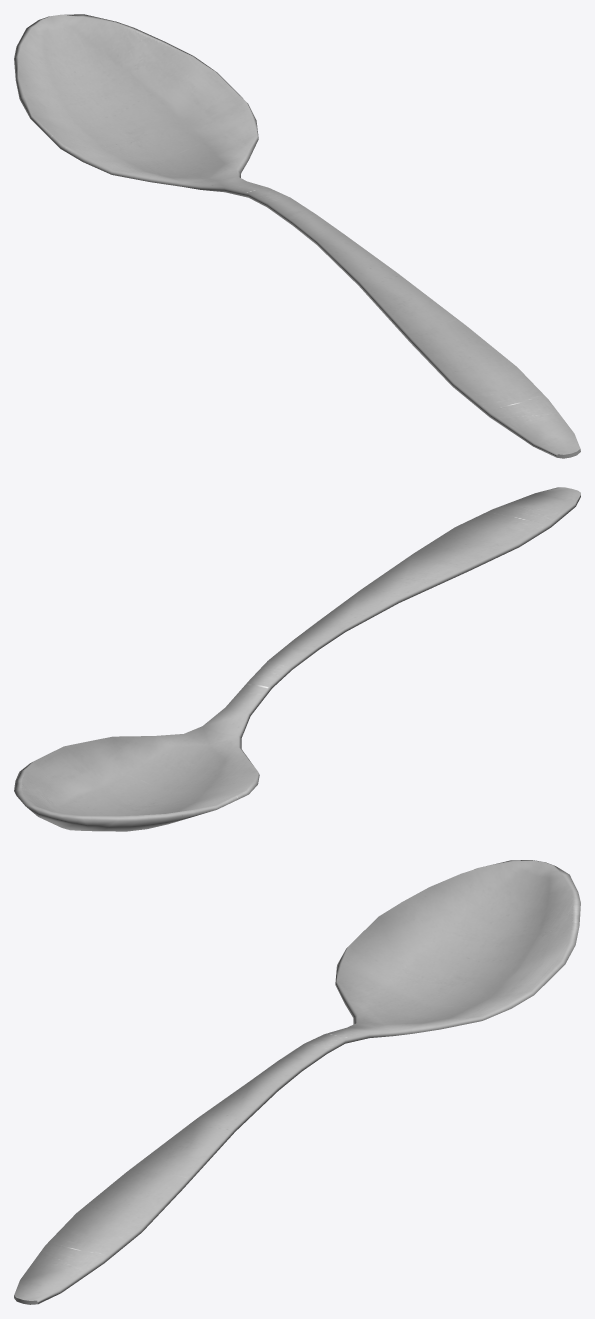
The model's file is SM_Spoon_A1.fbx.
The picture shows the model from 3 angles, top to bottom: view 1: azimuth 30°, elevation 25°; view 2: azimuth 150°, elevation 25°; view 3: azimuth 330°, elevation 25°; orthographic projection.
Parts seen in each view (by area): view 1: SM_Spoon_A1; view 2: SM_Spoon_A1; view 3: SM_Spoon_A1.
Boxes of the visible parts, x1,y1,x2,y2 form: SM_Spoon_A1: [14, 14, 580, 458]; SM_Spoon_A1: [14, 487, 580, 831]; SM_Spoon_A1: [14, 860, 580, 1304].
Size of the model in its own units: 3.83 by 18.38 by 1.29.
1 material, 1 textured.
